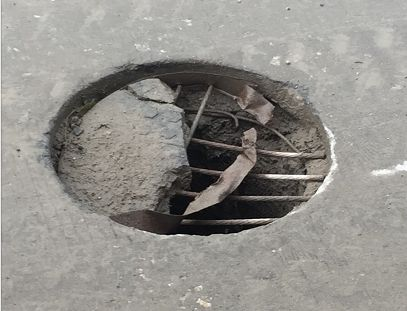broke: (46, 45, 345, 253)
